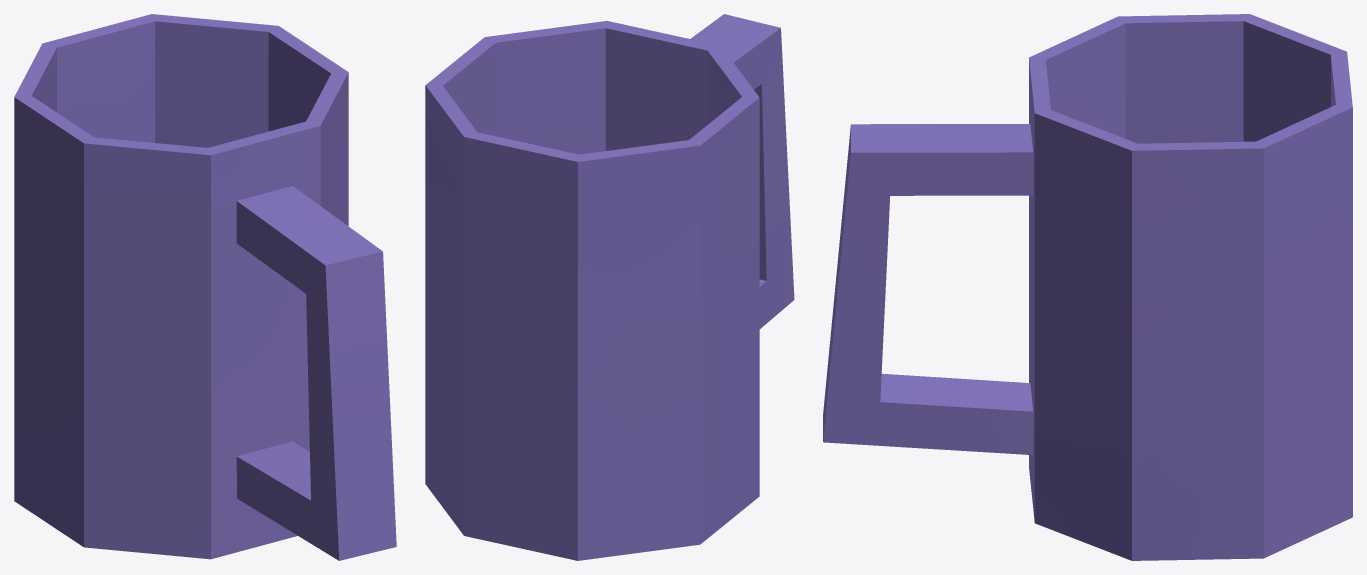
Rendered from Cup_5.fbx.
3 views of the same model, side by side, from view 1: azimuth 30°, elevation 25°; view 2: azimuth 150°, elevation 25°; view 3: azimuth 270°, elevation 25° (orthographic). The views are drawn at different scales.
Parts seen in each view (by area): view 1: Cup_5; view 2: Cup_5; view 3: Cup_5.
Boxes of the visible parts, bbox=[...] form: Cup_5: bbox=[14, 14, 396, 560]; Cup_5: bbox=[425, 14, 794, 560]; Cup_5: bbox=[823, 14, 1352, 560].
Bounding box in the file's own units: 4.15 × 5.79 × 6.78.
